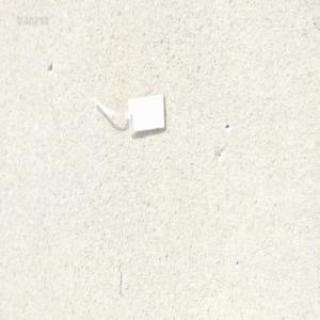LuggageTagtrack_idkeyframe: (91, 75, 167, 137)
